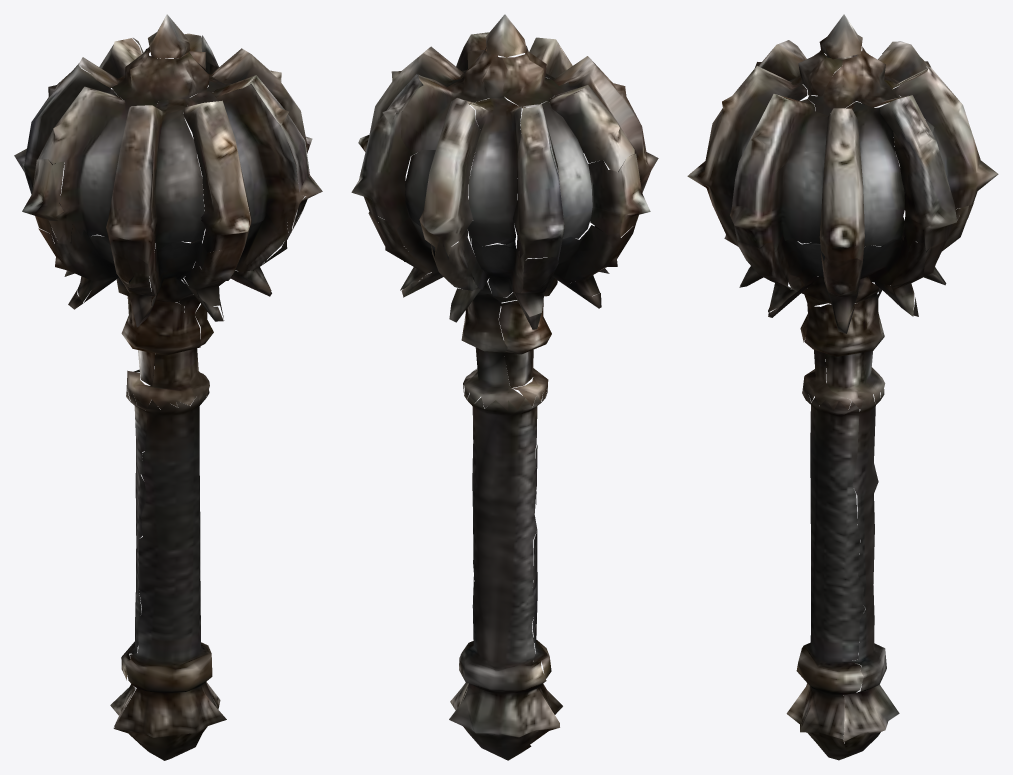
The model's file is ribbed_mace.glb.
3 renders of one model, left to right at view 1: azimuth 30°, elevation 25°; view 2: azimuth 150°, elevation 25°; view 3: azimuth 270°, elevation 25°, orthographic.
Visible parts, largest first — view 1: ribbed_mace; view 2: ribbed_mace; view 3: ribbed_mace.
Part boxes in pixels (bbox=[...]): ribbed_mace: bbox=[14, 14, 322, 760]; ribbed_mace: bbox=[351, 14, 658, 760]; ribbed_mace: bbox=[687, 14, 998, 760].
Size of the model in its own units: 0.2959 by 0.7259 by 0.2746.
Materials: 1 (1 with a texture image).
